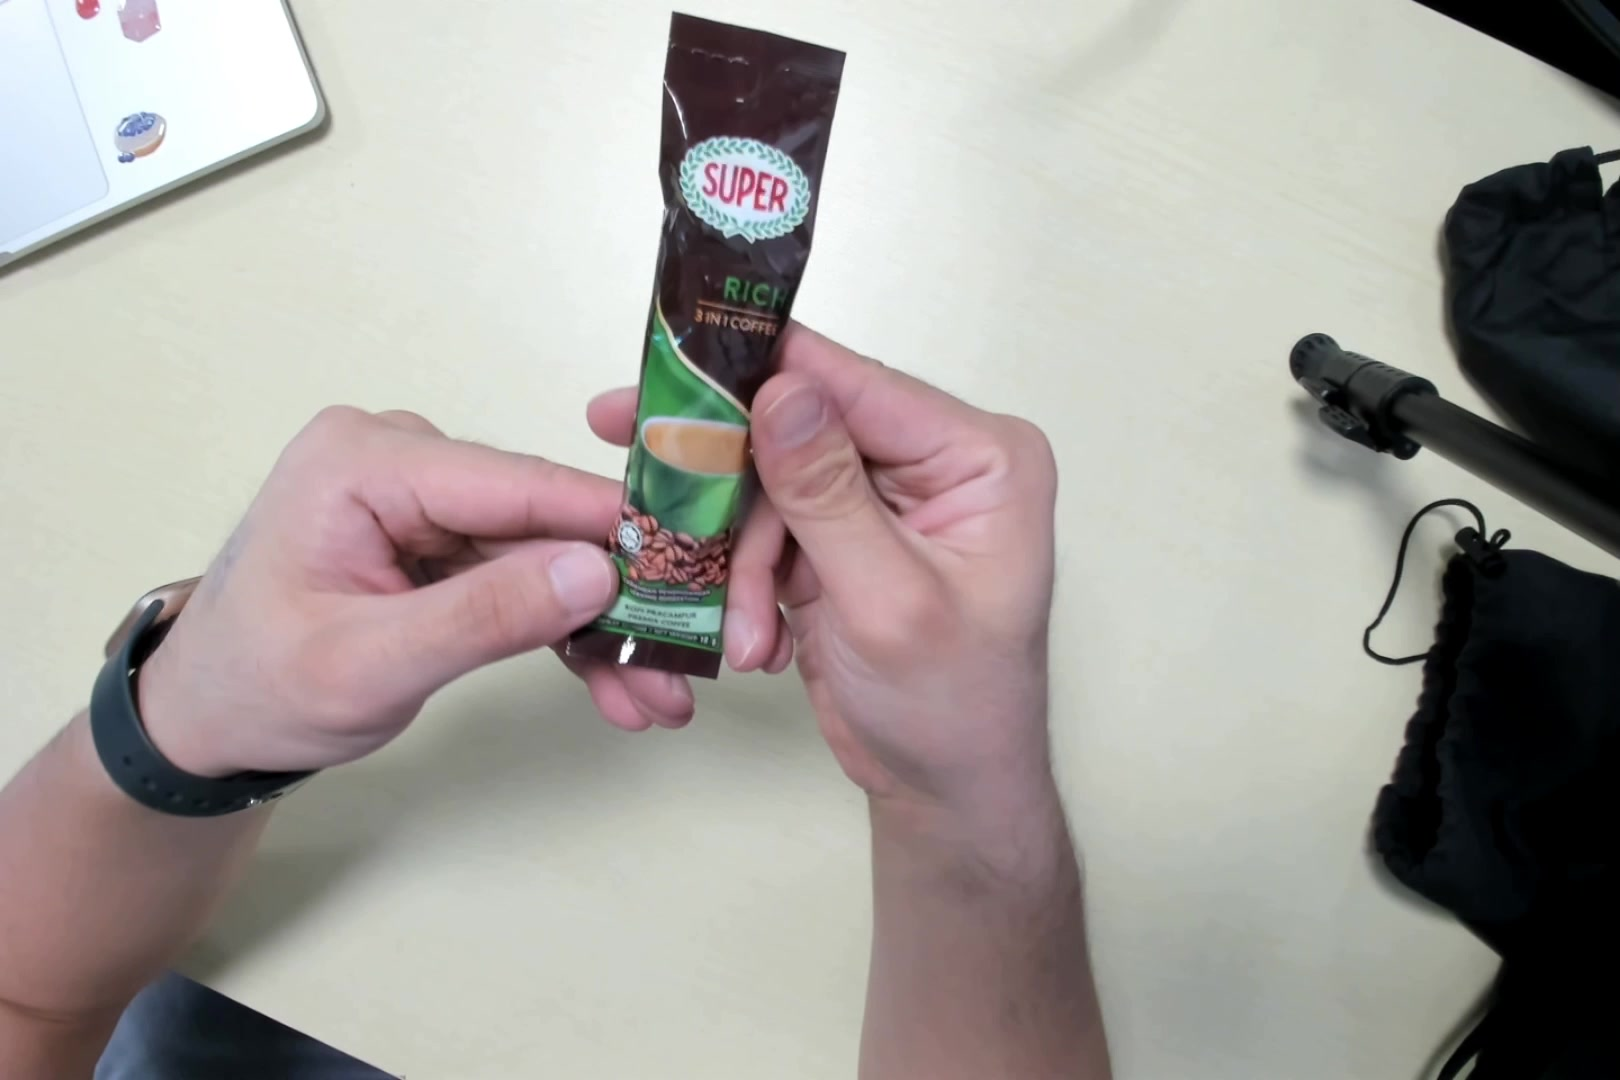Coffee(Powder)_0-99g_Halal_NonHealthy: (575, 8, 829, 683)
